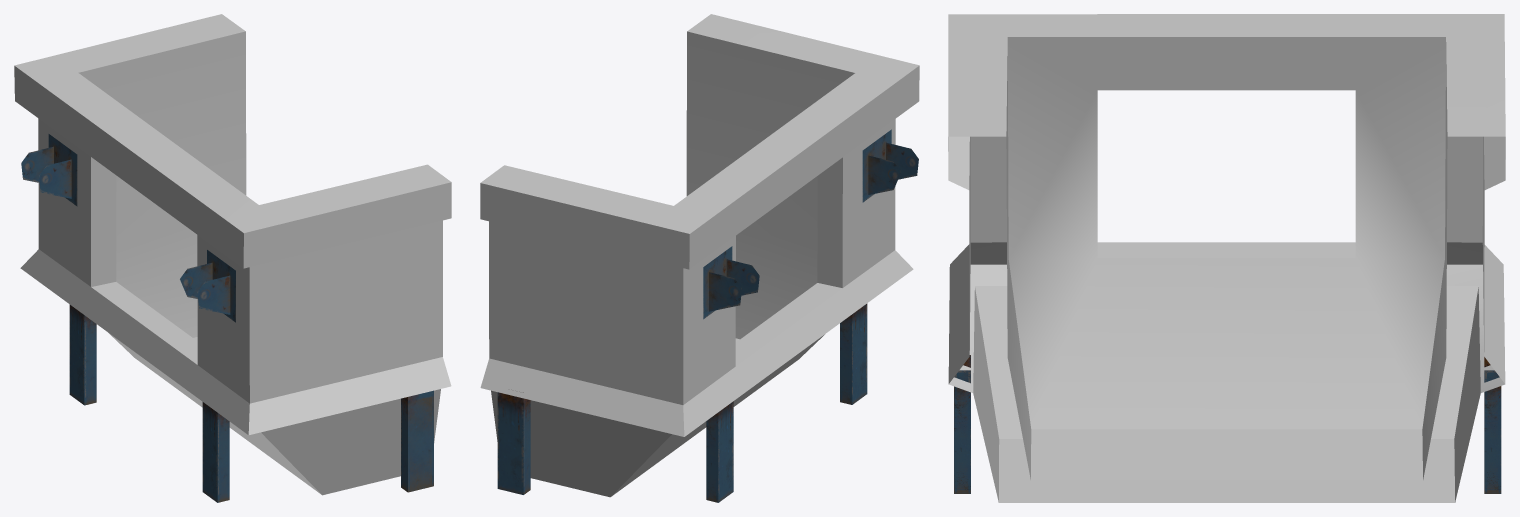
The model's file is Concrete_StoneCatchTank_02a_snaps005.fbx.
The picture shows the model from 3 angles, left to right: view 1: azimuth 30°, elevation 25°; view 2: azimuth 150°, elevation 25°; view 3: azimuth 270°, elevation 25°; orthographic projection. The views are drawn at different scales.
Parts seen in each view (by area): view 1: Concrete_StoneCatchTank_02a_snaps005_LOD4; view 2: Concrete_StoneCatchTank_02a_snaps005_LOD4; view 3: Concrete_StoneCatchTank_02a_snaps005_LOD4.
Part boxes in pixels (x1=…): Concrete_StoneCatchTank_02a_snaps005_LOD4: x1=14, y1=14, x2=451, y2=502; Concrete_StoneCatchTank_02a_snaps005_LOD4: x1=480, y1=14, x2=919, y2=502; Concrete_StoneCatchTank_02a_snaps005_LOD4: x1=948, y1=14, x2=1505, y2=502.
Bounding box in the file's own units: 1.84 × 2.31 × 3.18.
